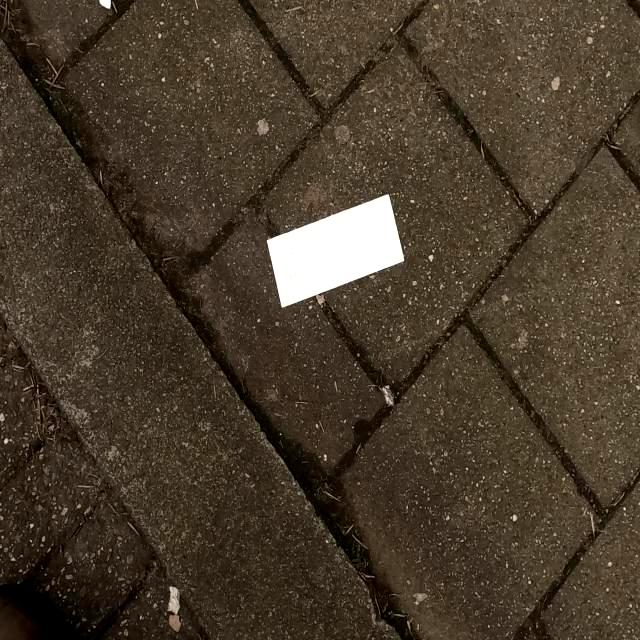Paper: (264, 191, 412, 297)
